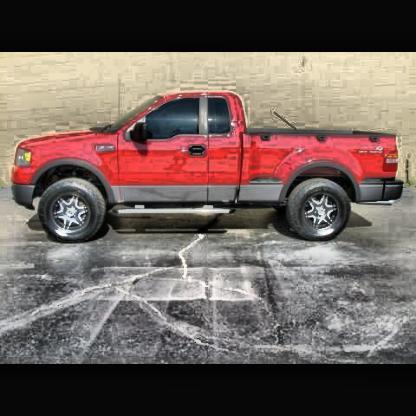Ford F-150 Regular Cab 2007: (13, 94, 405, 244)
